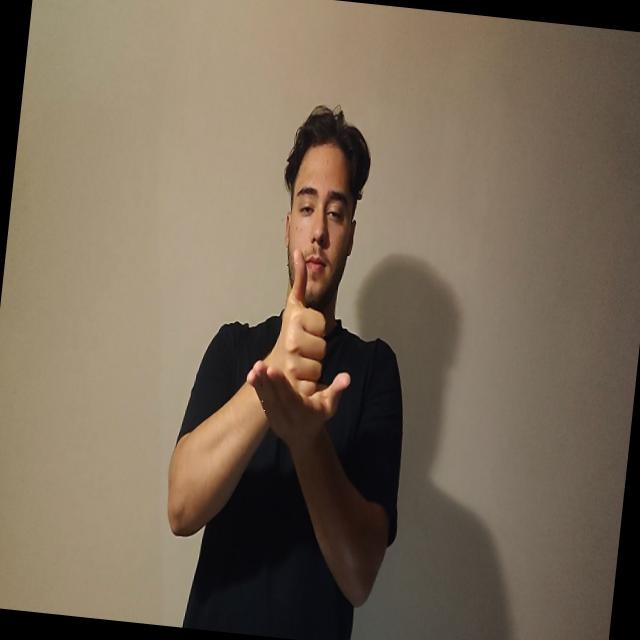help: (245, 243, 362, 438)
